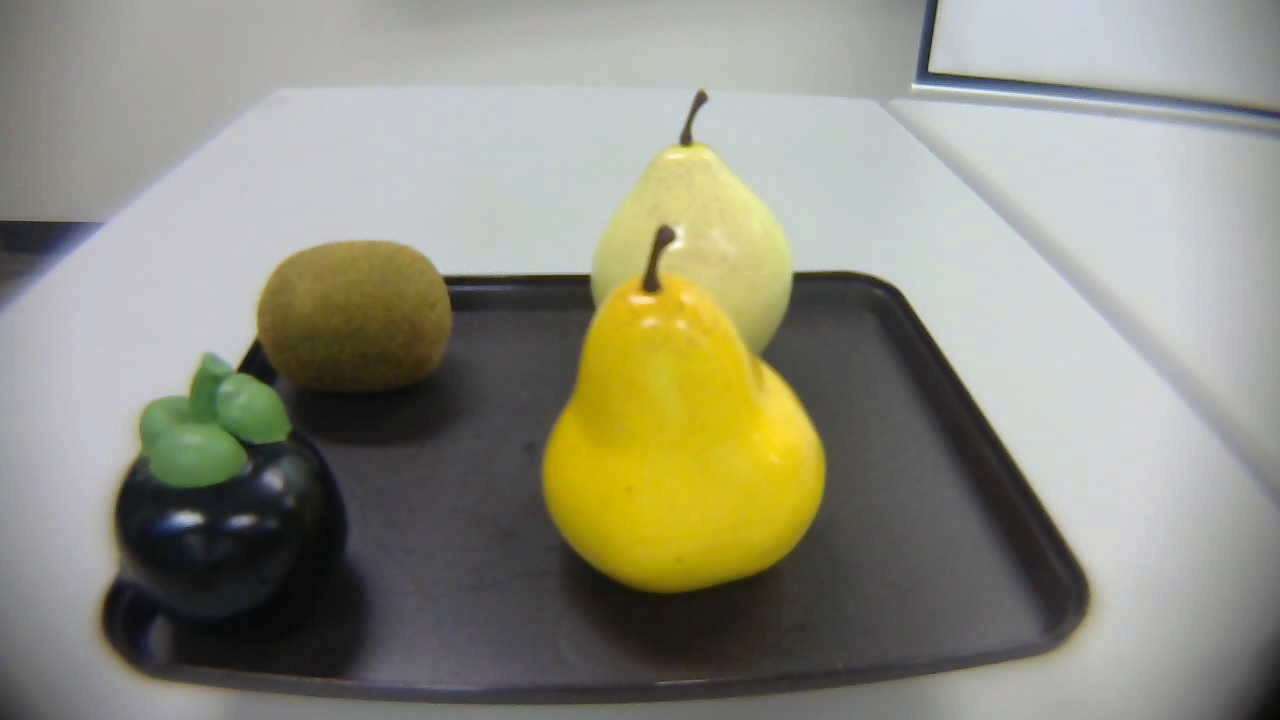kiwi fruit: (250, 234, 465, 403)
mangosteen: (112, 356, 348, 615)
western pear: (577, 88, 810, 368)
yellow pear: (530, 223, 838, 601)
